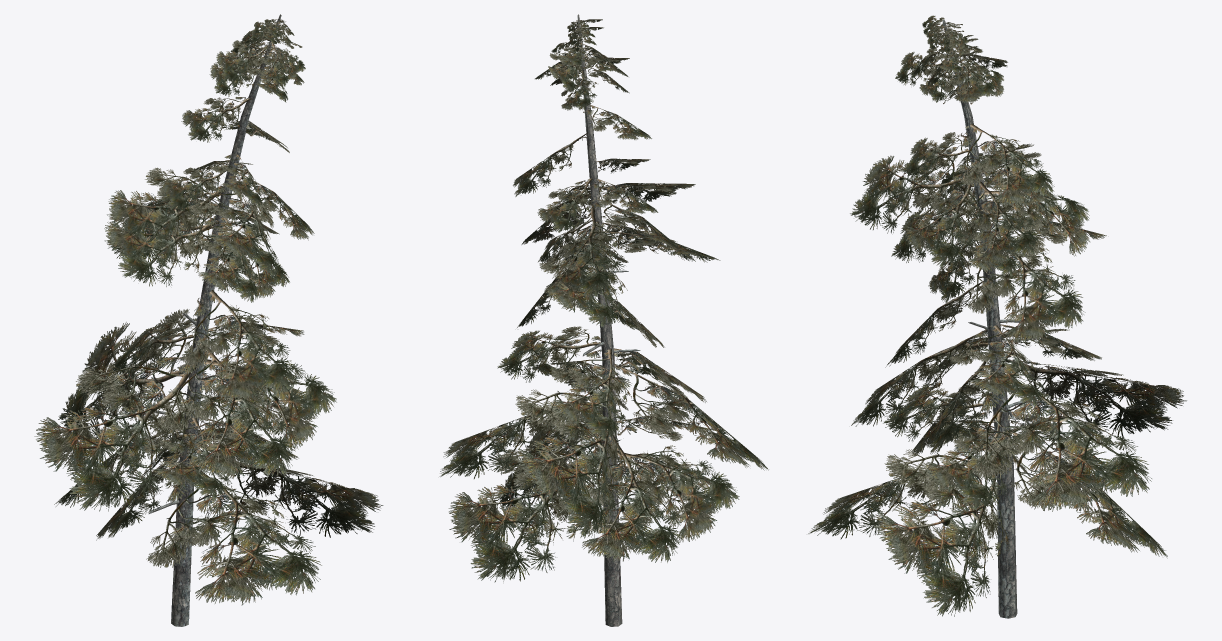
The model's file is pine_a.DAE.
3 views of the same model, side by side, from view 1: azimuth 30°, elevation 25°; view 2: azimuth 150°, elevation 25°; view 3: azimuth 270°, elevation 25° (orthographic). The views are drawn at different scales.
Visible parts, largest first — view 1: NaturePack_Pine_a; view 2: NaturePack_Pine_a; view 3: NaturePack_Pine_a.
Boxes of the visible parts, box(x1,y1,x2,y2) form: NaturePack_Pine_a: box(34, 14, 383, 626); NaturePack_Pine_a: box(439, 14, 768, 626); NaturePack_Pine_a: box(808, 15, 1186, 618).
Bounding box in the file's own units: 524 × 559 × 958.
